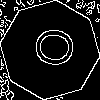O: (25, 25, 75, 69)
